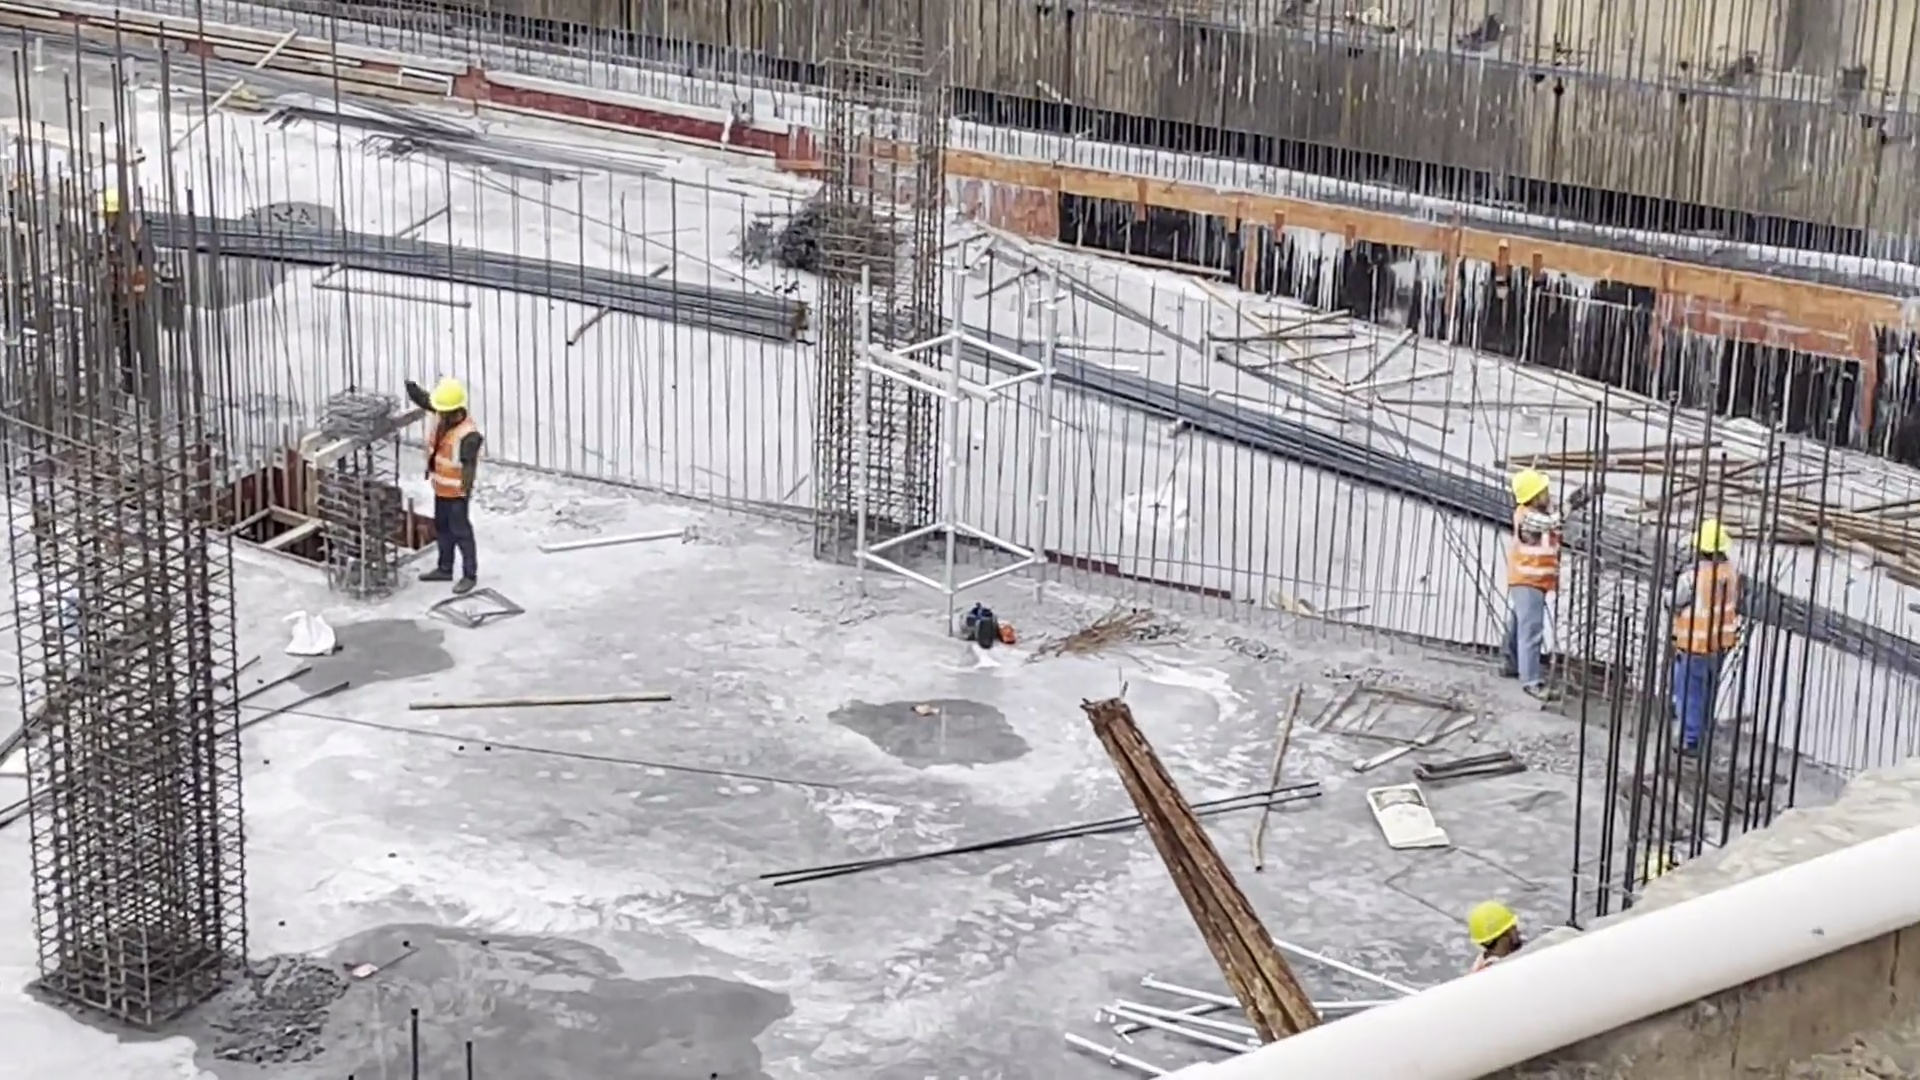helmet: (1463, 891, 1522, 941), (426, 371, 474, 415), (1513, 469, 1555, 509), (1695, 526, 1737, 556)
person: (1496, 465, 1595, 707), (413, 359, 489, 604), (1675, 515, 1741, 757)
rebar: (972, 290, 1492, 531), (262, 199, 822, 360)
vest: (1679, 564, 1742, 665), (418, 414, 481, 504), (1505, 517, 1564, 601)
